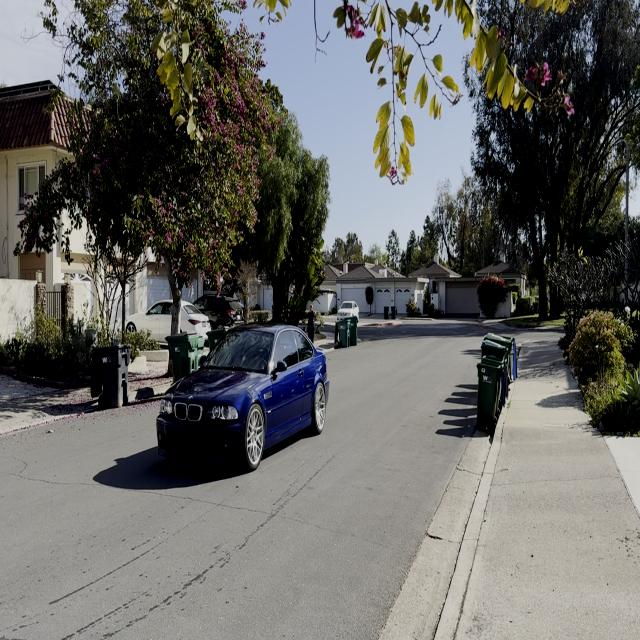Carbeetle: (148, 305, 336, 481)
